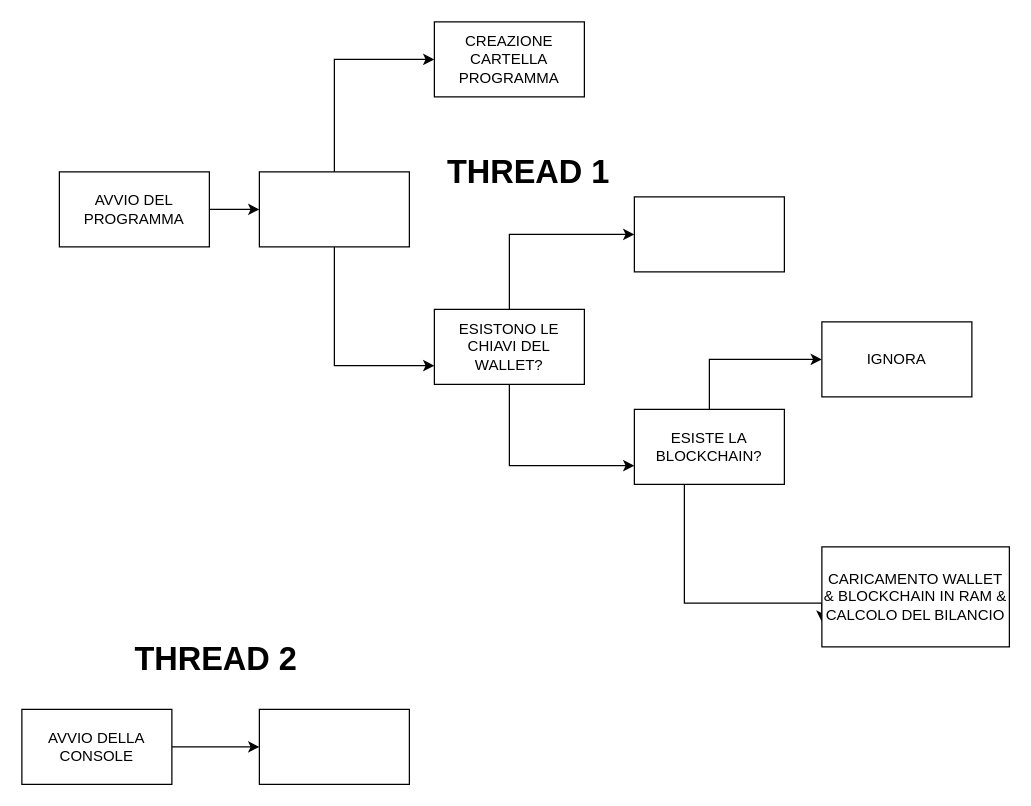
Some shapes in this 1031 by 806 pixel diagram are drawn without their labels. Each missing label, with the centre of its shape:
"CREAZIONE DI CHIAVI" belongs at point (708, 234).
"ESISTE LE CARTELLE DEL PROGRAMMA?" belongs at point (333, 209).
"IN ATTESA DI UN INPUT DELL'UTENTE" belongs at point (333, 746).
